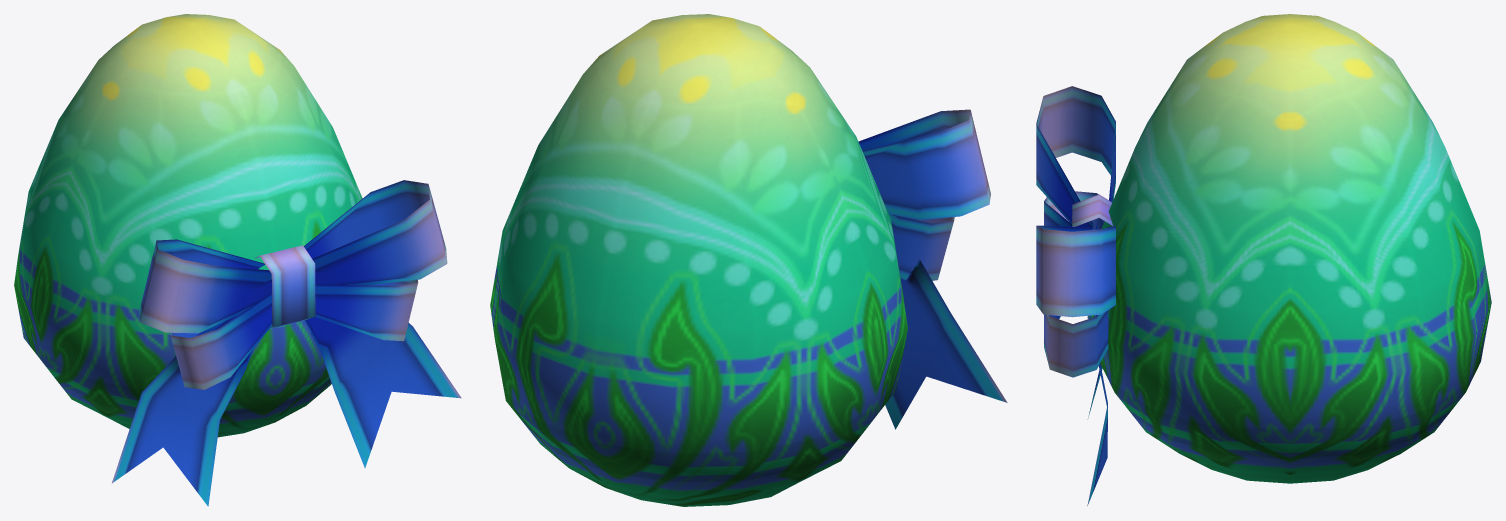
Rendered from Egg_05(HighPoly).FBX.
3 renders of one model, left to right at view 1: azimuth 30°, elevation 25°; view 2: azimuth 150°, elevation 25°; view 3: azimuth 270°, elevation 25°, orthographic. The views are drawn at different scales.
Visible parts, largest first — view 1: Egg_05(HighPoly); view 2: Egg_05(HighPoly); view 3: Egg_05(HighPoly).
Part boxes in pixels (bbox=[...]): Egg_05(HighPoly): bbox=[14, 14, 461, 506]; Egg_05(HighPoly): bbox=[490, 14, 1007, 506]; Egg_05(HighPoly): bbox=[1036, 14, 1491, 505].
Bounding box in the file's own units: 0.5564 × 0.6031 × 0.5665.
